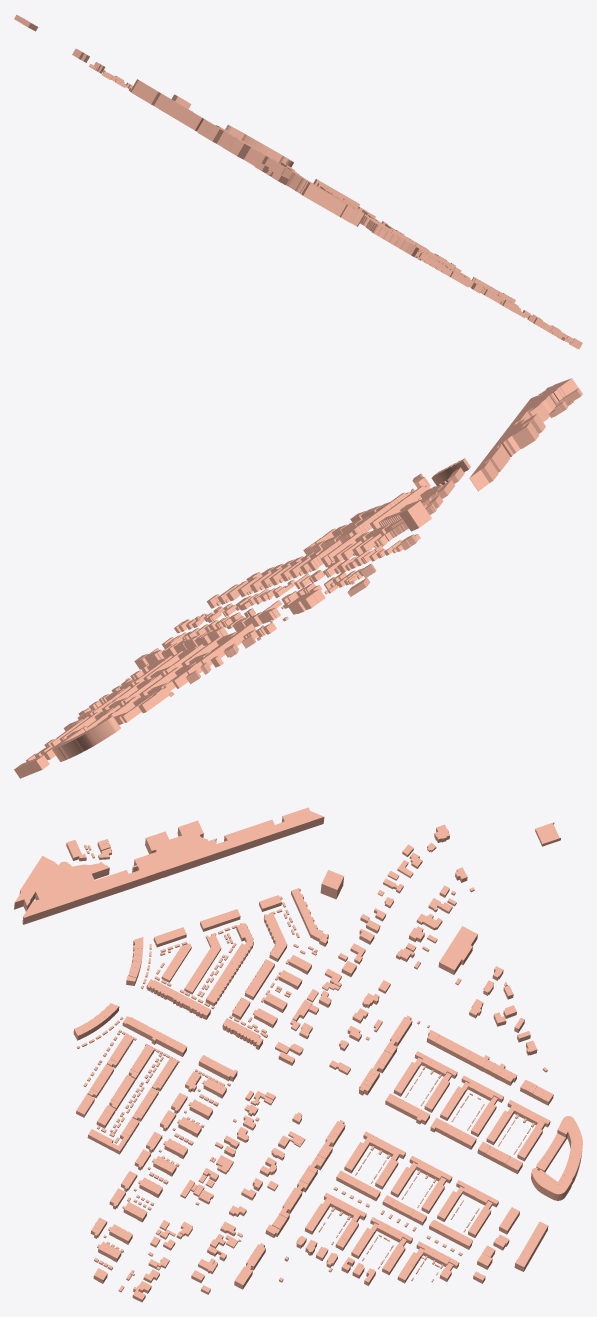
3 renders of one model, top to bottom at view 1: azimuth 30°, elevation 25°; view 2: azimuth 150°, elevation 25°; view 3: azimuth 270°, elevation 25°, orthographic. The views are drawn at different scales.
Size of the model in its own units: 532 by 406 by 672.
